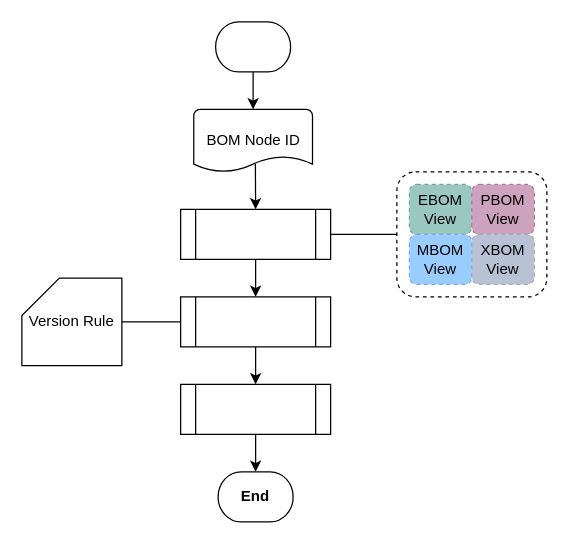
The diagram is 569 pixels wide and 544 high, and some of its shapes have lost their labels. Here are the shapes that lost their labels. From the top down, the centre of each, then its label:
point (252, 46): Start
point (255, 233): Selected View
point (255, 321): Selected Rule
point (255, 408): Constructing Product Structure
